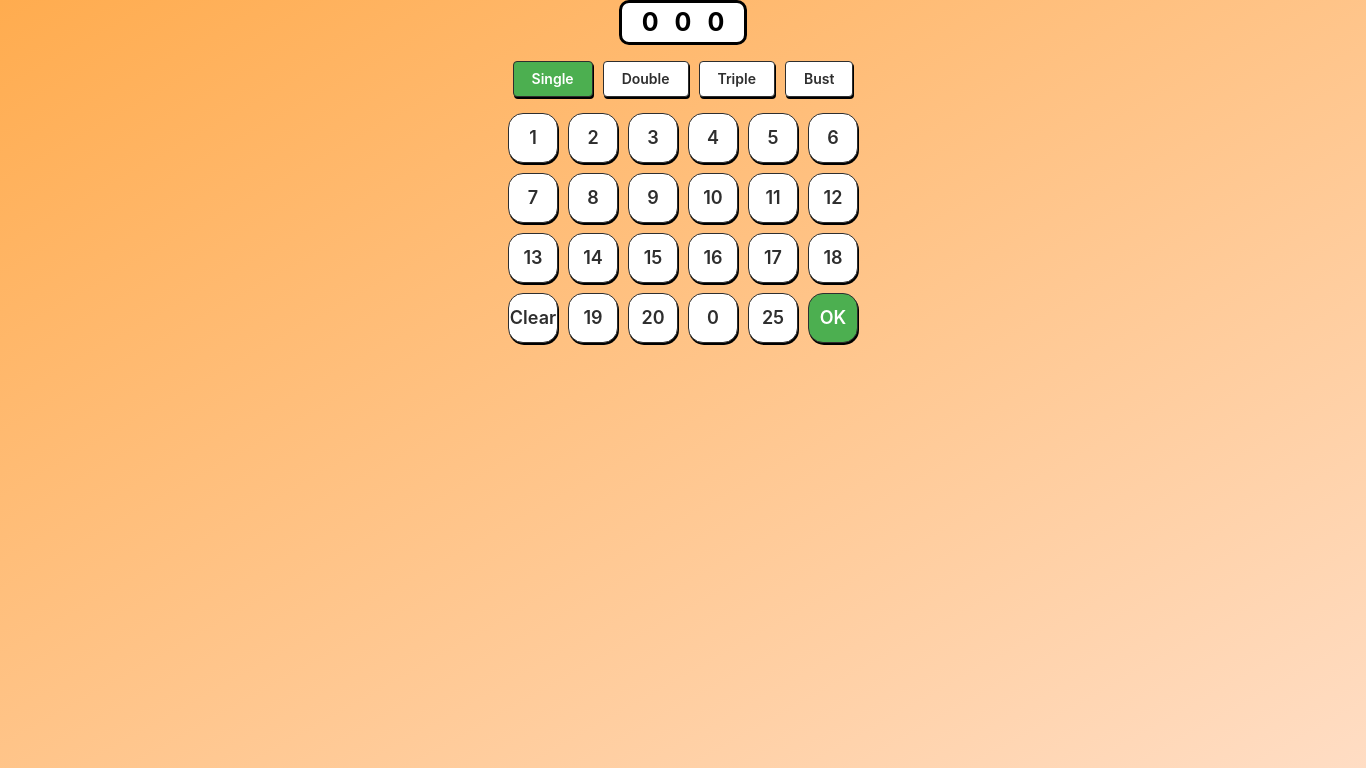
InputThrowTornooi › should fill the label when a number is pushed
Click the button "20". click: x=653, y=318
box: [628, 293, 678, 343]
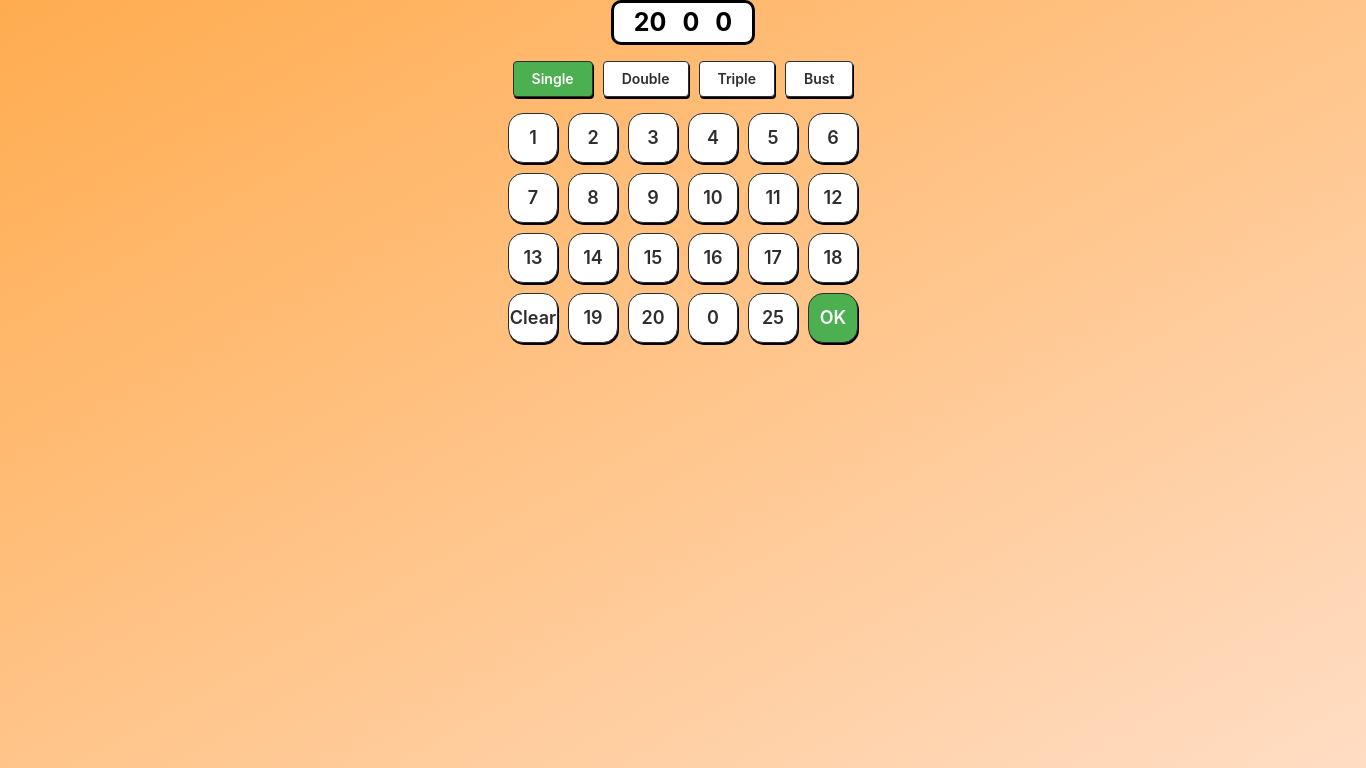
Now the text with test id "label1" reads "20", box [634, 7, 666, 37]
